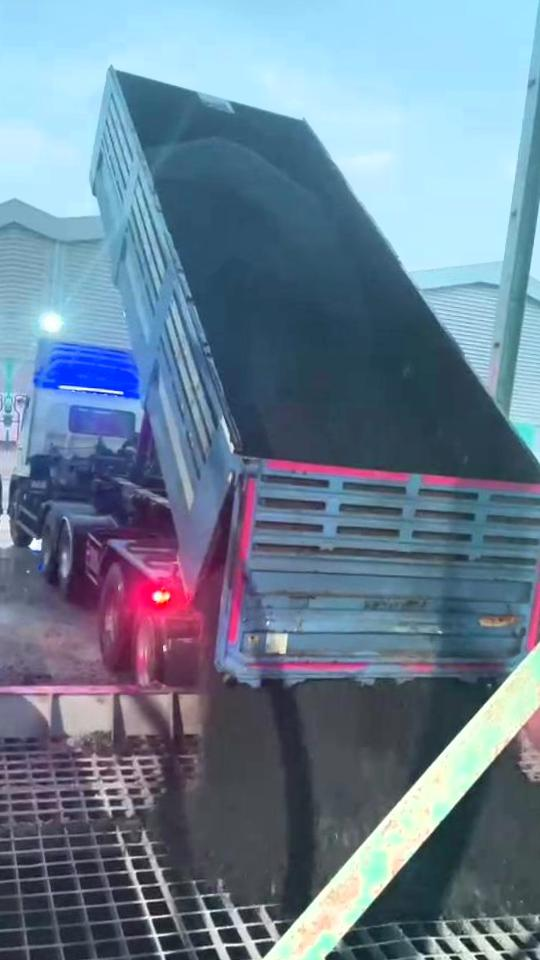gravel: (152, 139, 418, 468), (193, 678, 485, 914), (383, 752, 540, 916)
